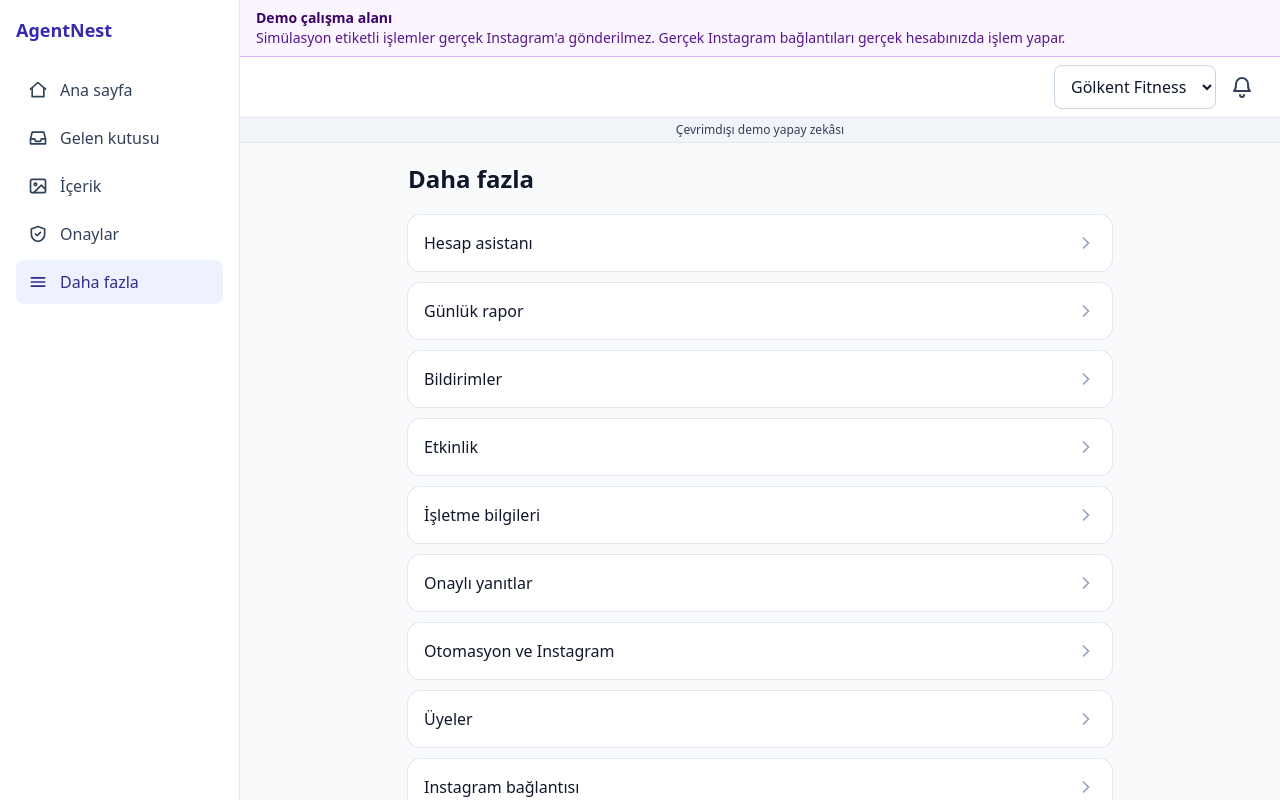
Test case: overview › is reachable from More
Click the link "İşletme bilgileri" at (482, 515), box [408, 487, 1112, 543]
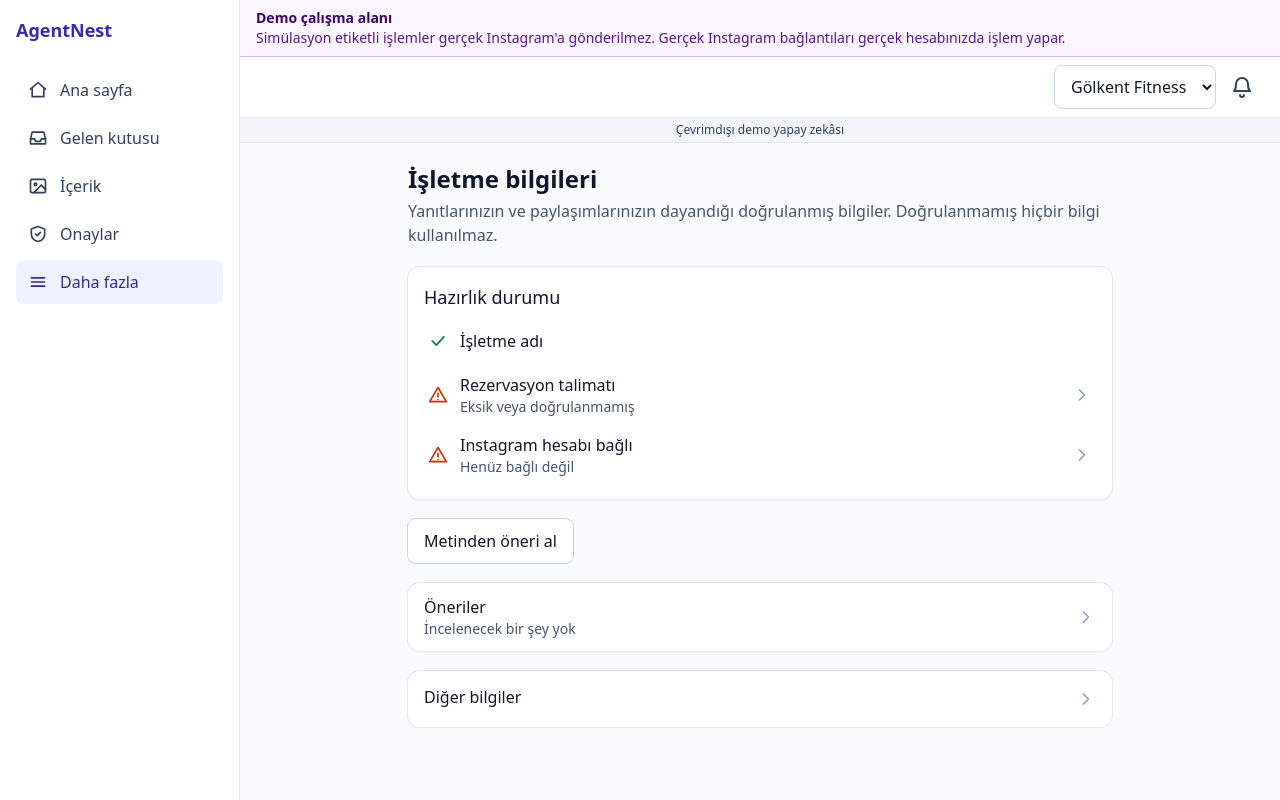
Now the heading "İşletme bilgileri" is shown, box [408, 162, 597, 195]
